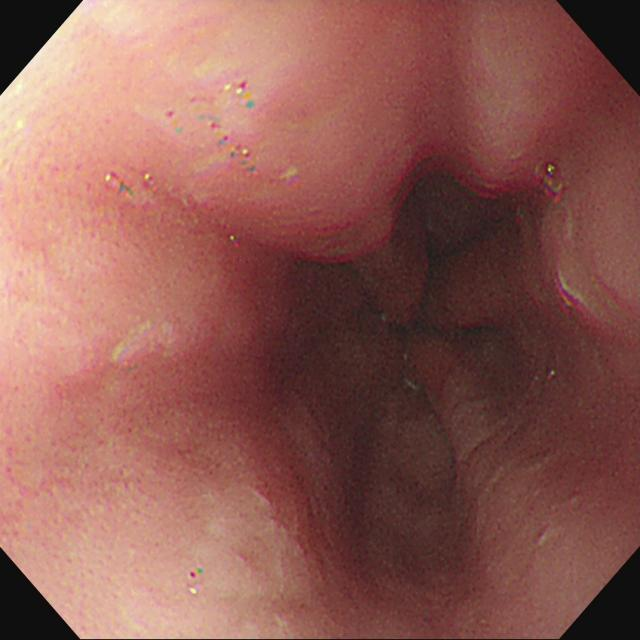I: (327, 250, 479, 420)
J: (196, 477, 288, 595)
T: (536, 157, 566, 198)
